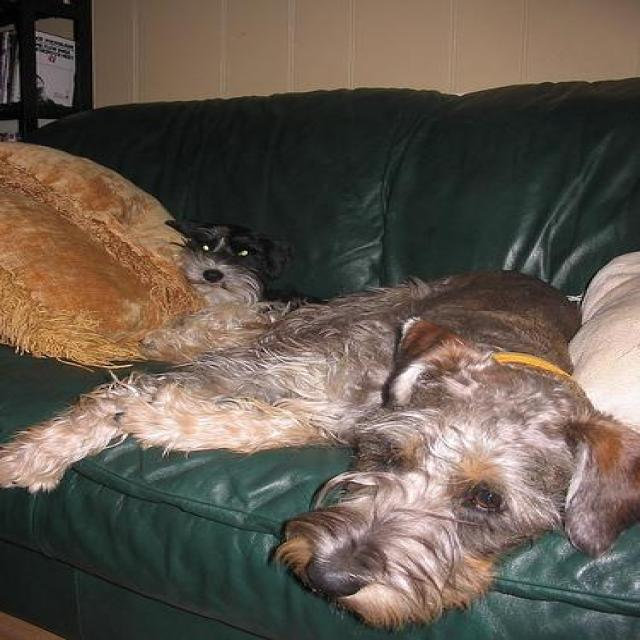standard_schnauzer: (0, 269, 637, 630), (156, 218, 330, 314)
